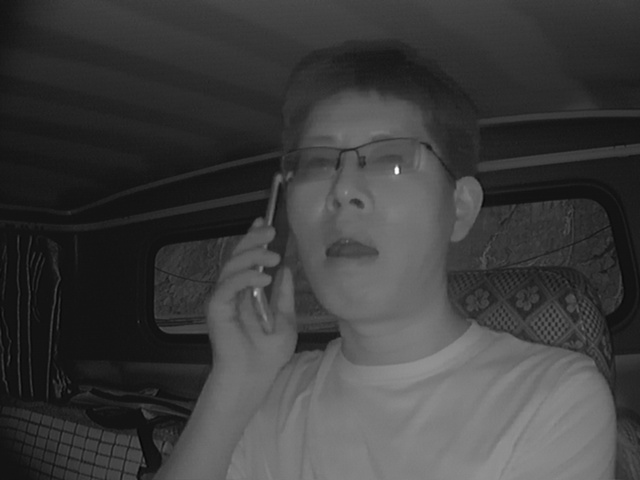hand: (206, 217, 308, 365)
